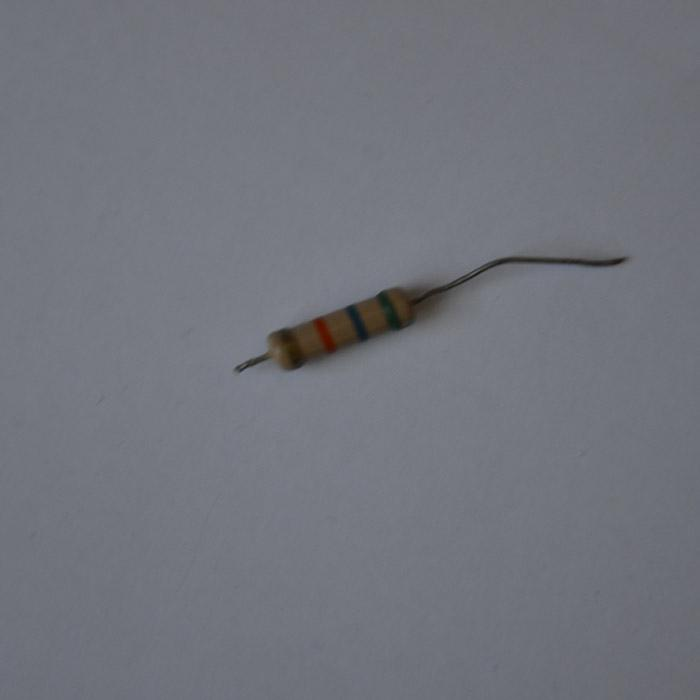resistor: (255, 285, 420, 373)
